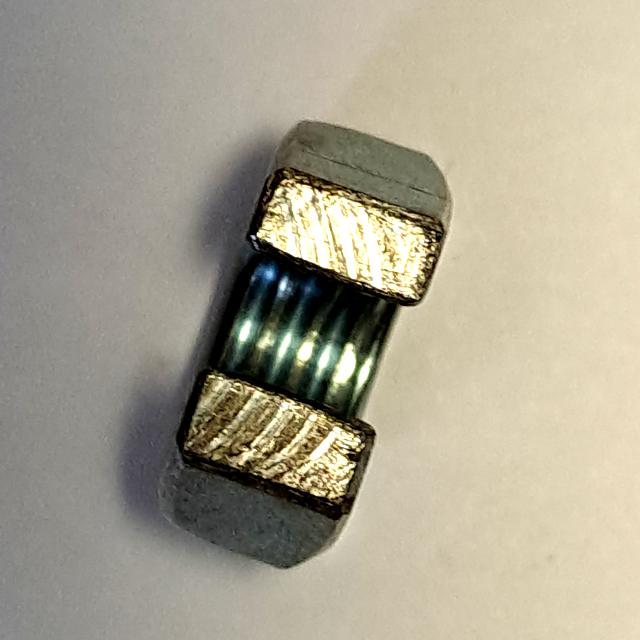Side-Fracture: (147, 100, 468, 587)
